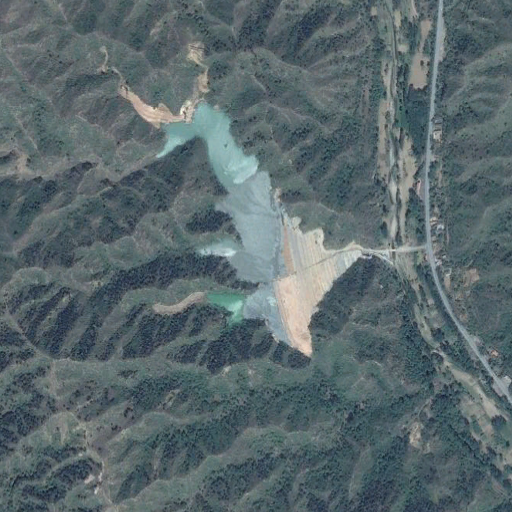tp: (156, 101, 360, 359)
